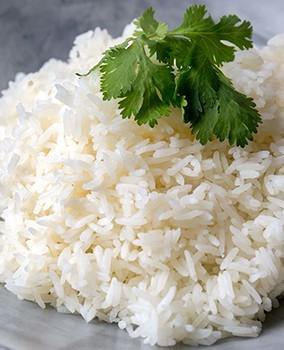WhiteRice: (0, 23, 284, 347)
